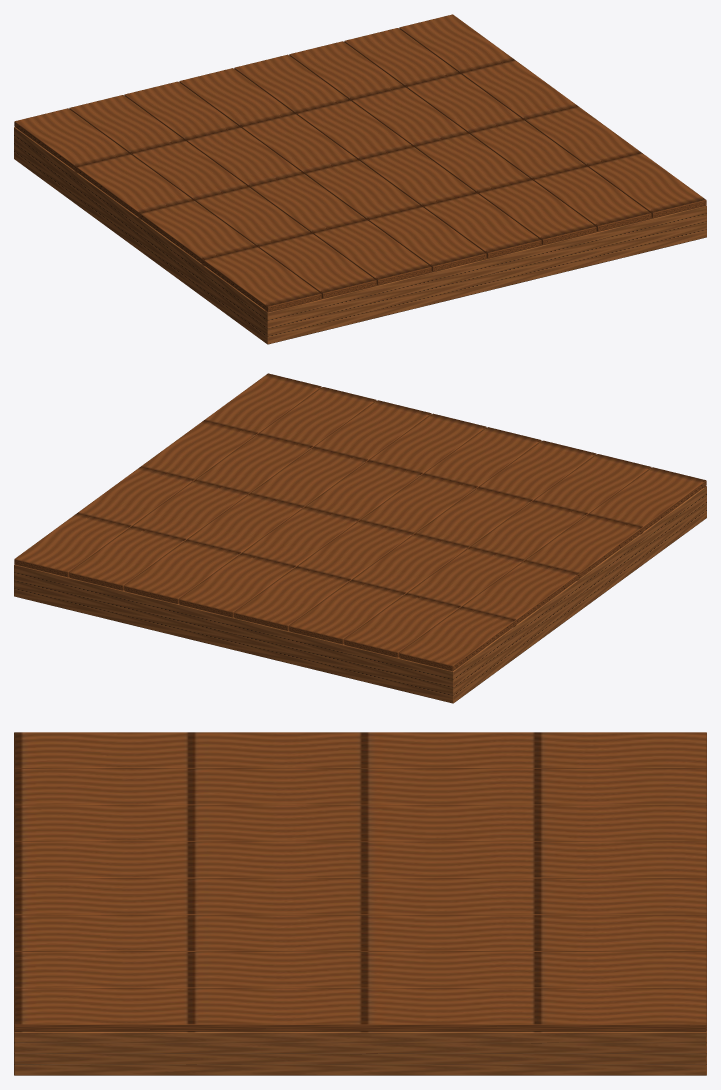
The model's file is paranormal-investigation-house-wood-floor-be8cf02a__26709.glb.
3 renders of one model, top to bottom at view 1: azimuth 30°, elevation 25°; view 2: azimuth 150°, elevation 25°; view 3: azimuth 270°, elevation 25°, orthographic. The views are drawn at different scales.
Visible parts, largest first — view 1: wood-floor; view 2: wood-floor; view 3: wood-floor.
Boxes of the visible parts, x1,y1,x2,y2 form: wood-floor: (14,14,706,344); wood-floor: (14,373,706,703); wood-floor: (14,732,706,1075).
Bounding box in the file's own units: 2 × 0.1649 × 2.
2 materials, 2 textured.
